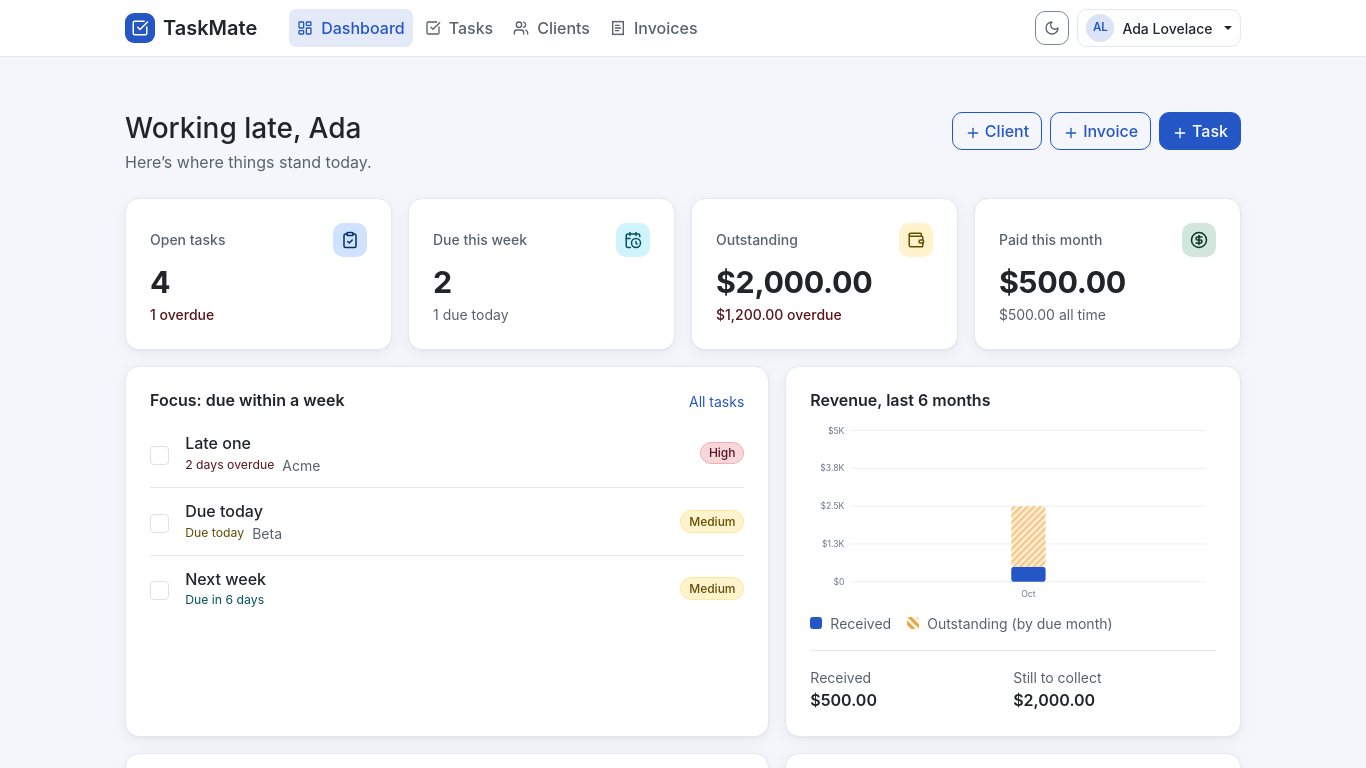
Test: Dashboard › completes a task straight from the focus list
The image size is (1366, 768).
What coordinates should you click on to do the following:
click the checkbox named "Mark “Due today” as complete"
I would click on:
 (160, 524)
Its box is [150,514,169,533].
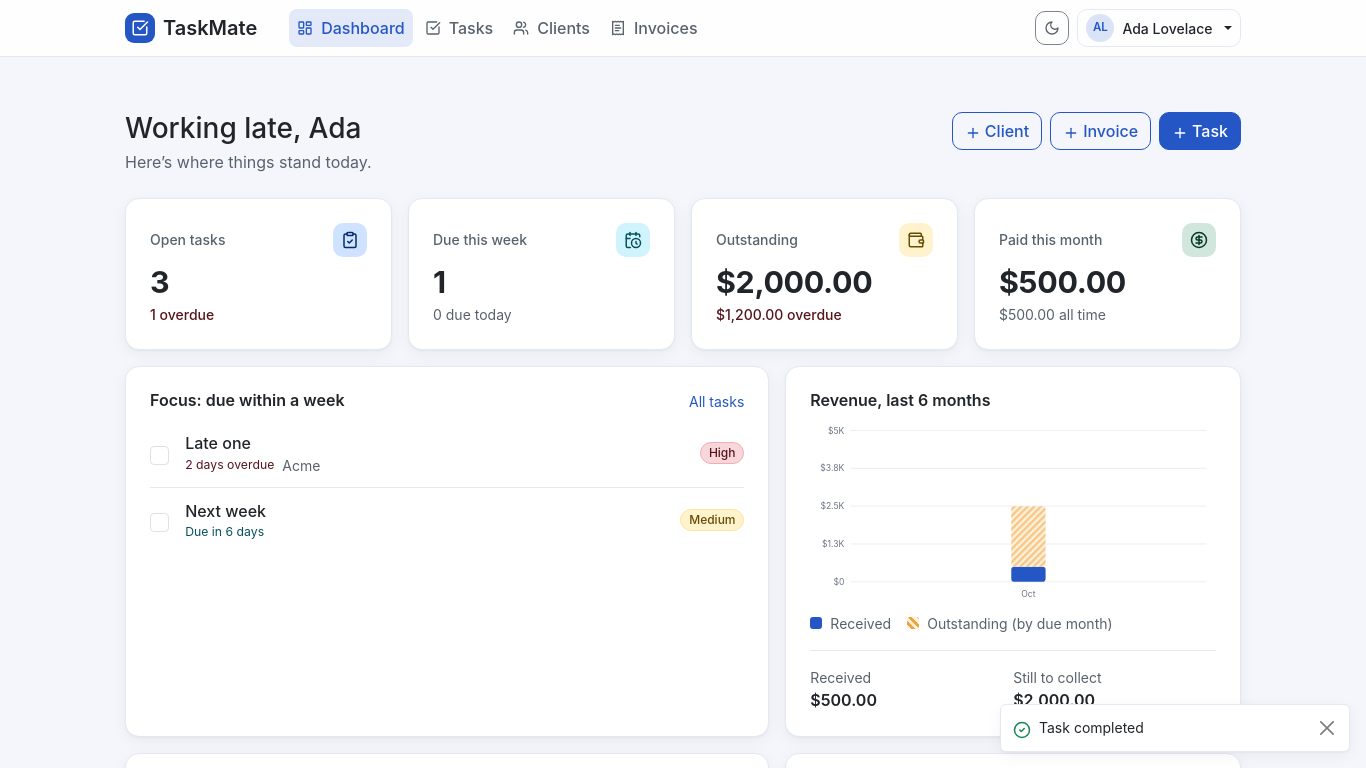
Expected: the text "Task completed" is shown, [1039,719,1144,736]
Expected: the element with test id "stat-open-tasks" shows "3", [150,264,169,300]
